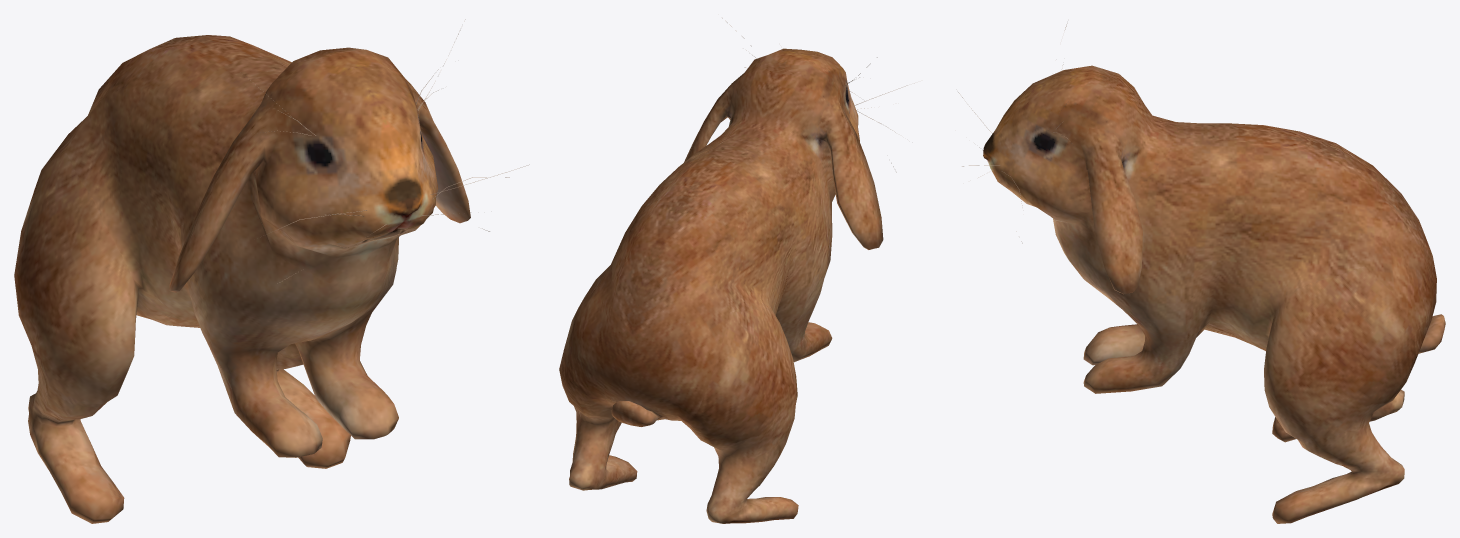
The model's file is rabbit-rigged.fbx.
3 renders of one model, left to right at view 1: azimuth 30°, elevation 25°; view 2: azimuth 150°, elevation 25°; view 3: azimuth 270°, elevation 25°, orthographic. The views are drawn at different scales.
Visible parts, largest first — view 1: Rabbit_Main_0; view 2: Rabbit_Main_0; view 3: Rabbit_Main_0.
Boxes of the visible parts, x1,y1,x2,y2 form: Rabbit_Main_0: [14, 19, 529, 523]; Rabbit_Main_0: [559, 18, 914, 523]; Rabbit_Main_0: [958, 23, 1445, 523].
Bounding box in the file's own units: 1223 × 2182 × 2303.
